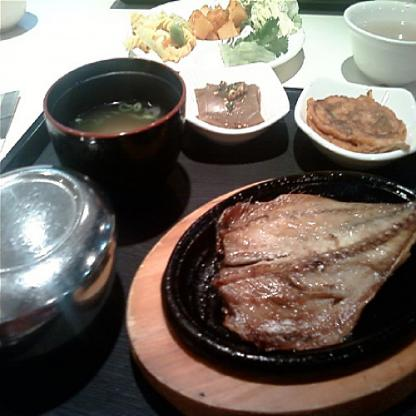Peixe: (198, 184, 416, 361)
